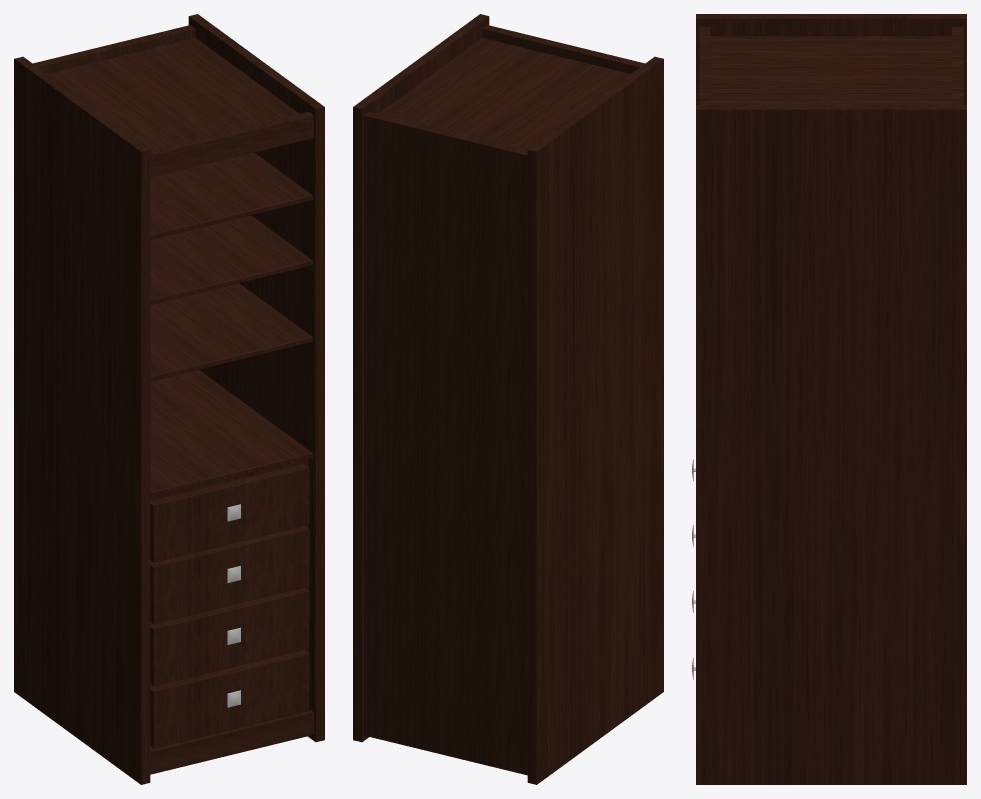
The model's file is wooden-cab5.glb.
The picture shows the model from 3 angles, left to right: view 1: azimuth 30°, elevation 25°; view 2: azimuth 150°, elevation 25°; view 3: azimuth 270°, elevation 25°; orthographic projection. The views are drawn at different scales.
Visible parts, largest first — view 1: Cube_8_PBR_0.005; view 2: Cube_8_PBR_0.005; view 3: Cube_8_PBR_0.005.
Part boxes in pixels (<box>): Cube_8_PBR_0.005: <box>14,14,324,784</box>; Cube_8_PBR_0.005: <box>353,14,663,784</box>; Cube_8_PBR_0.005: <box>692,14,966,784</box>.
Size of the model in its own units: 0.6869 by 2.26 by 0.8341.
2 materials, 1 textured.
